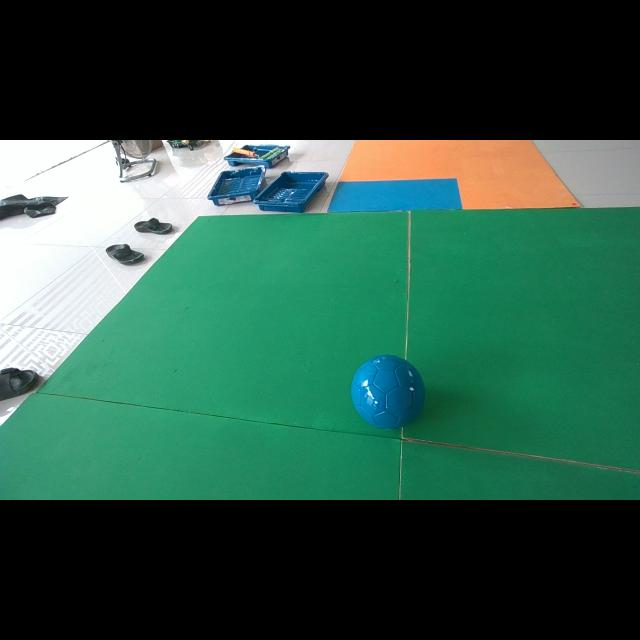B: (351, 355, 425, 429)
